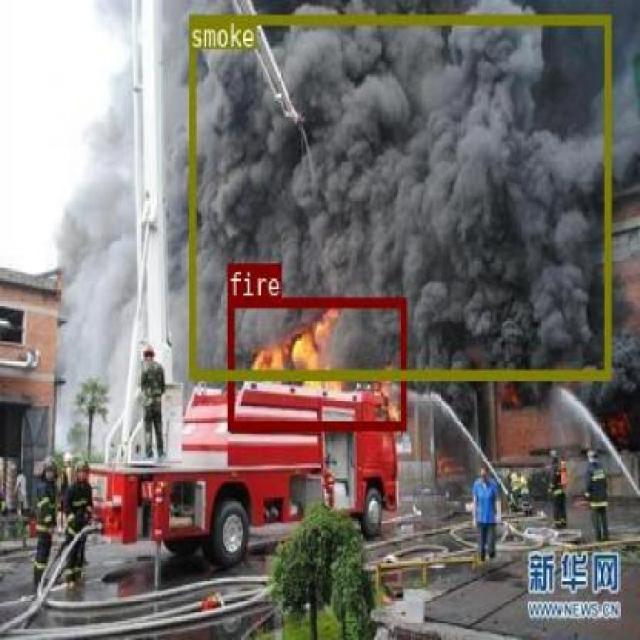Fire: (226, 296, 405, 429)
Smoke: (188, 14, 610, 377)
